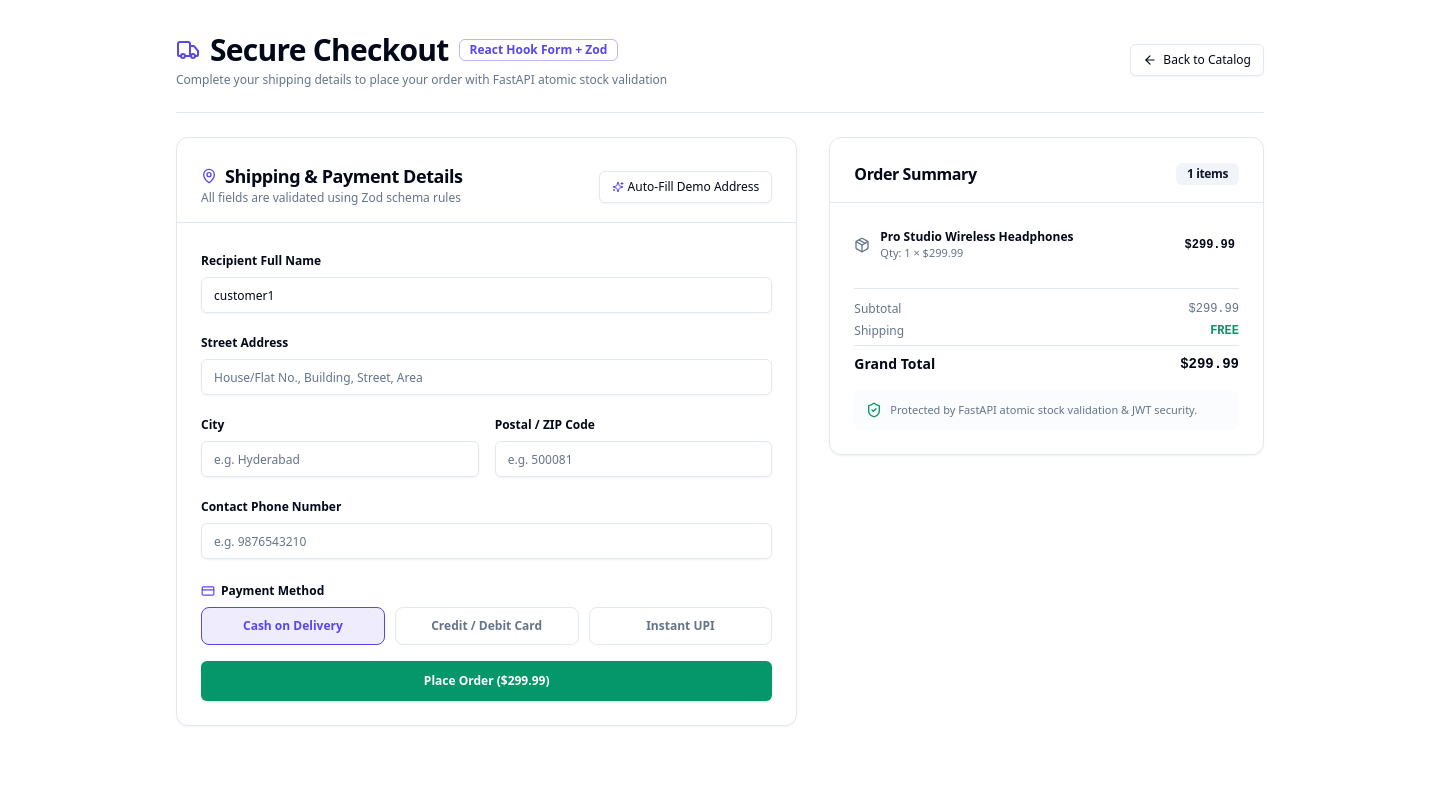
Test: Day 16 — E-Commerce Frontend (Part 2) Comprehensive Test Suite › 2. Checkout Page (react-hook-form + Zod Validation & Order Creation) › shows Zod validation messages when submitting empty shipping fields
Clear default fullName so all fields are empty
Clear the field labelled "Recipient Full Name" at (487, 295), box [201,277,772,313]
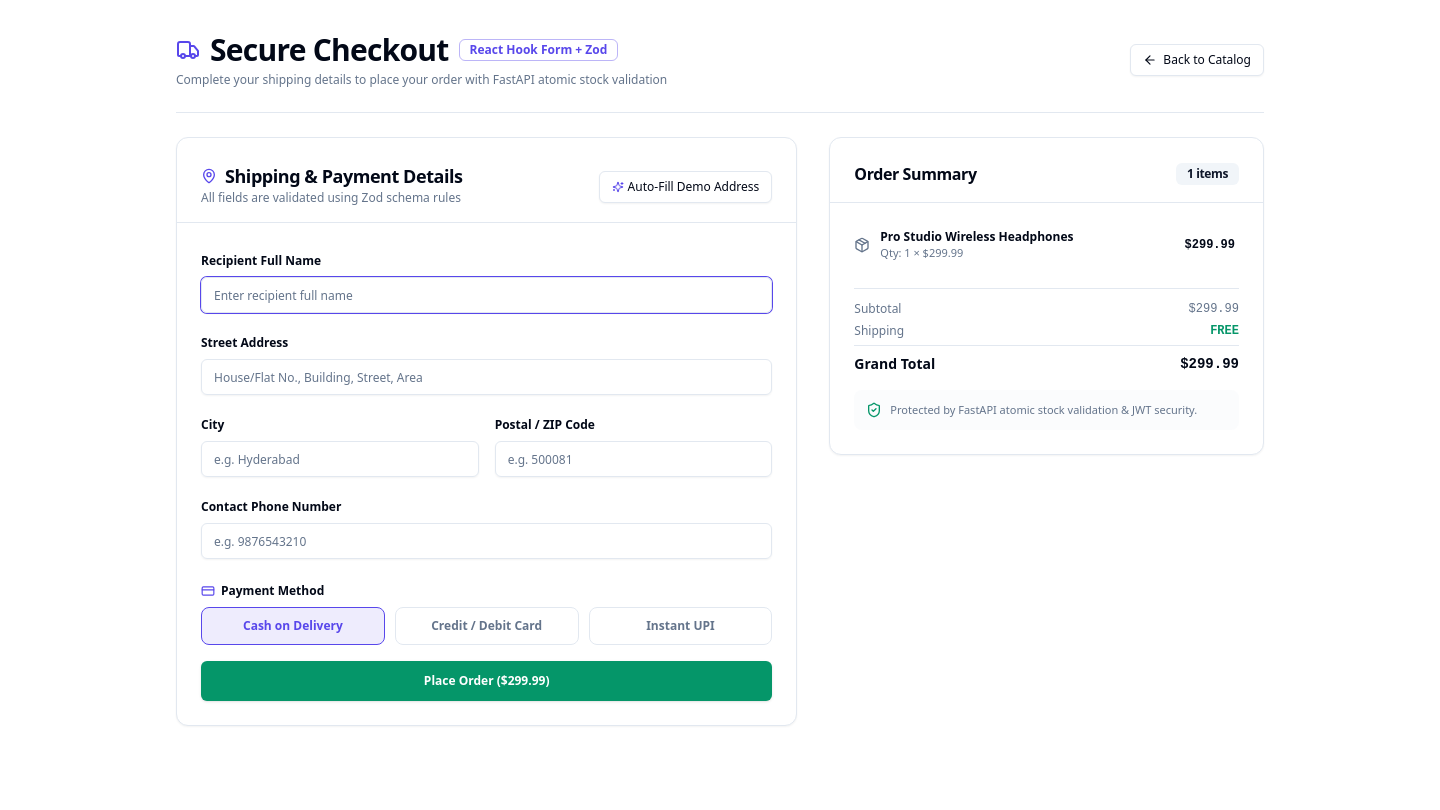
Click the button "Place Order ($299.99)" at (487, 681), box [201,661,772,701]
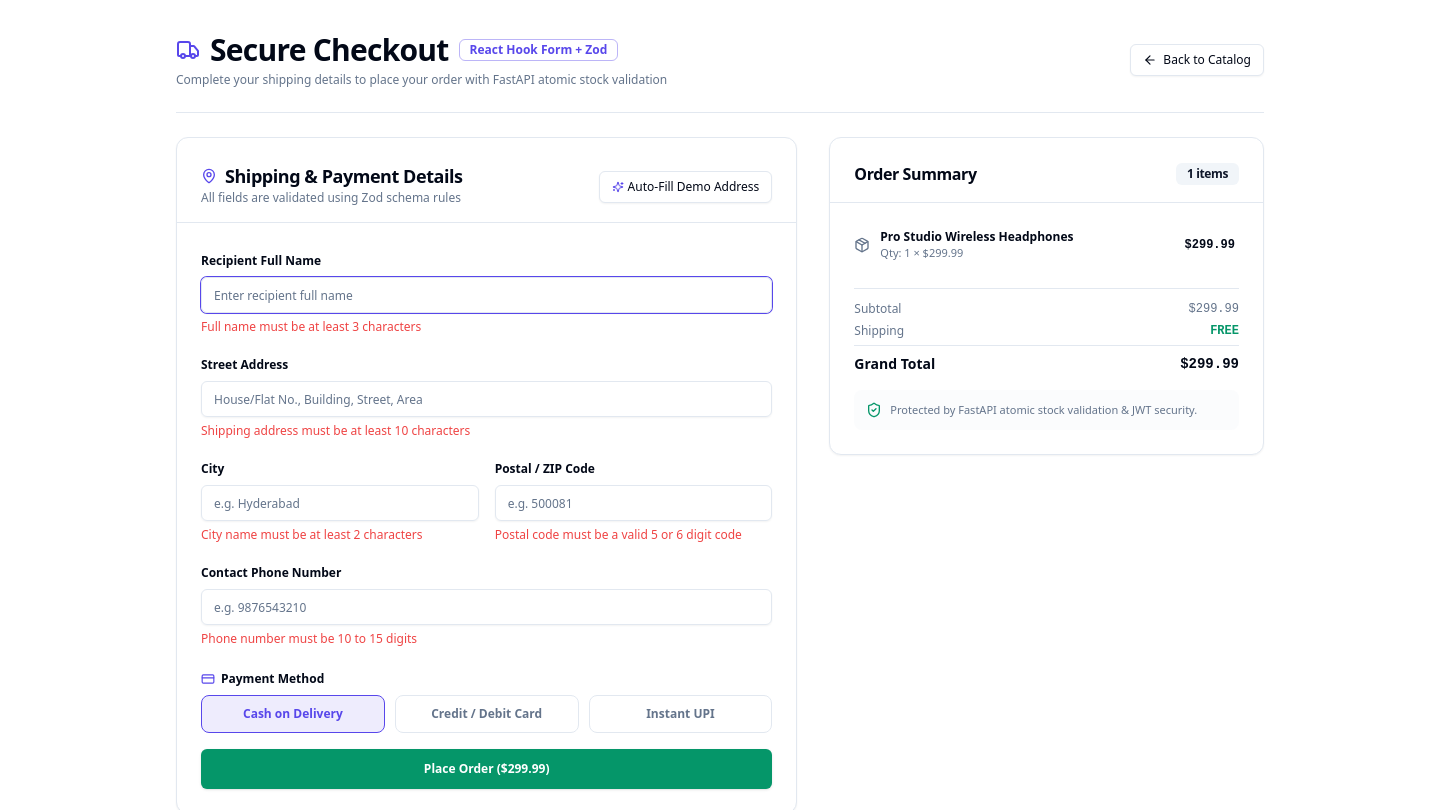
expect the text "Full name must be at least 3 characters" is shown: met, box [201,318,421,335]
expect the text "Shipping address must be at least 10 characters" is shown: met, box [201,422,470,439]
expect the text "City name must be at least 2 characters" is shown: met, box [201,526,422,543]
